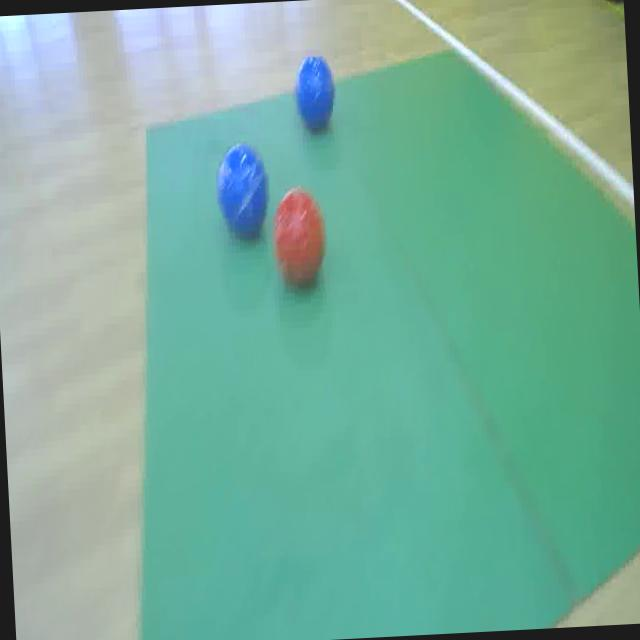blue_ball: (210, 143, 271, 237), (288, 51, 338, 130)
red_ball: (270, 184, 330, 297)
